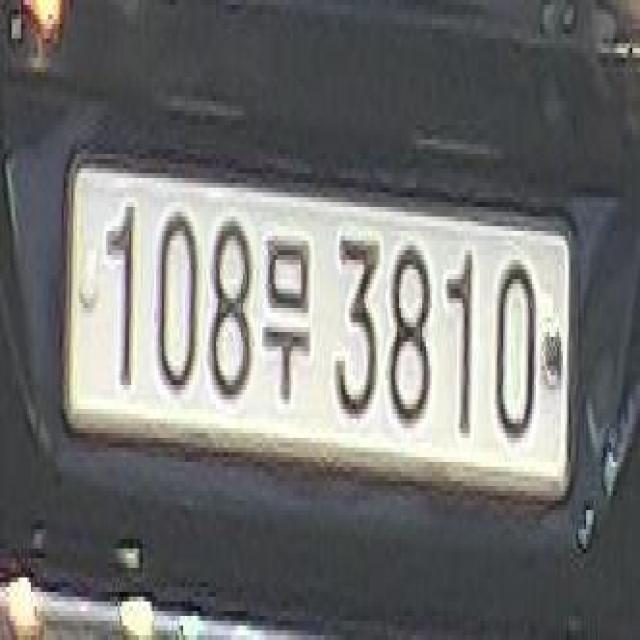illegal_plate: (66, 140, 569, 516)
